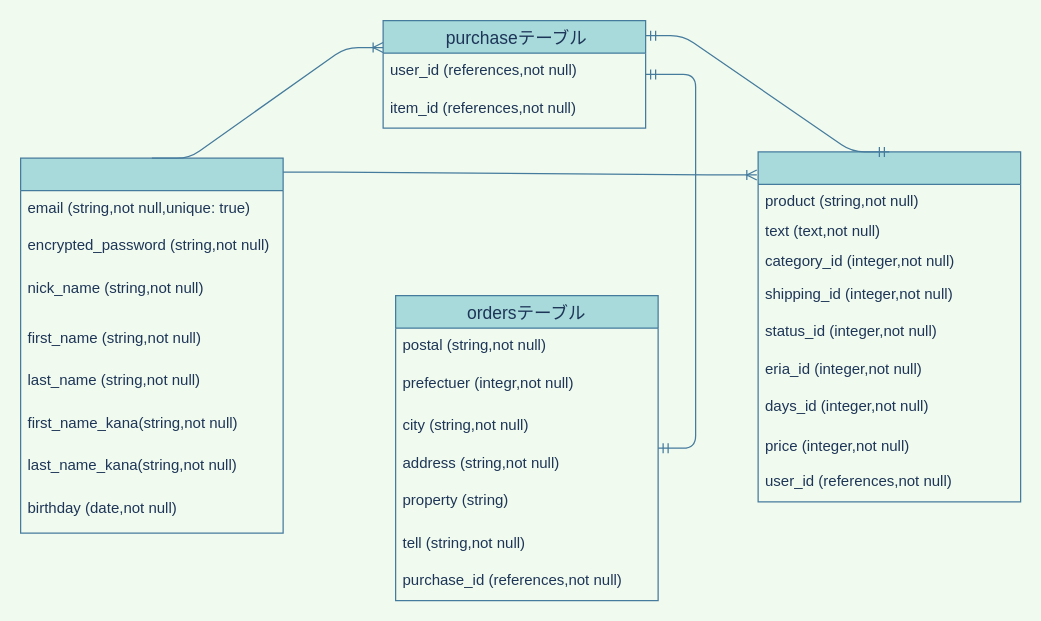
Some shapes in this 1041 by 621 pixel diagram are drawn without their labels. Each missing label, with the box of its shape:
items テーブル: (757, 151, 1021, 502)
users テーブル: (19, 157, 283, 533)
